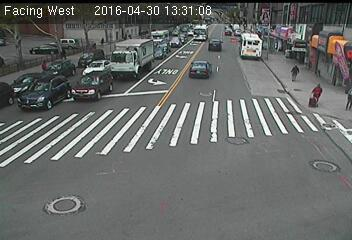neg: (83, 35, 91, 46), (299, 49, 307, 59), (104, 31, 112, 41)
pos: (306, 80, 326, 107), (287, 62, 302, 83), (341, 85, 351, 110), (37, 57, 47, 71)
